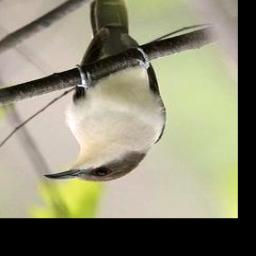Cuckoo: (43, 0, 167, 183)
